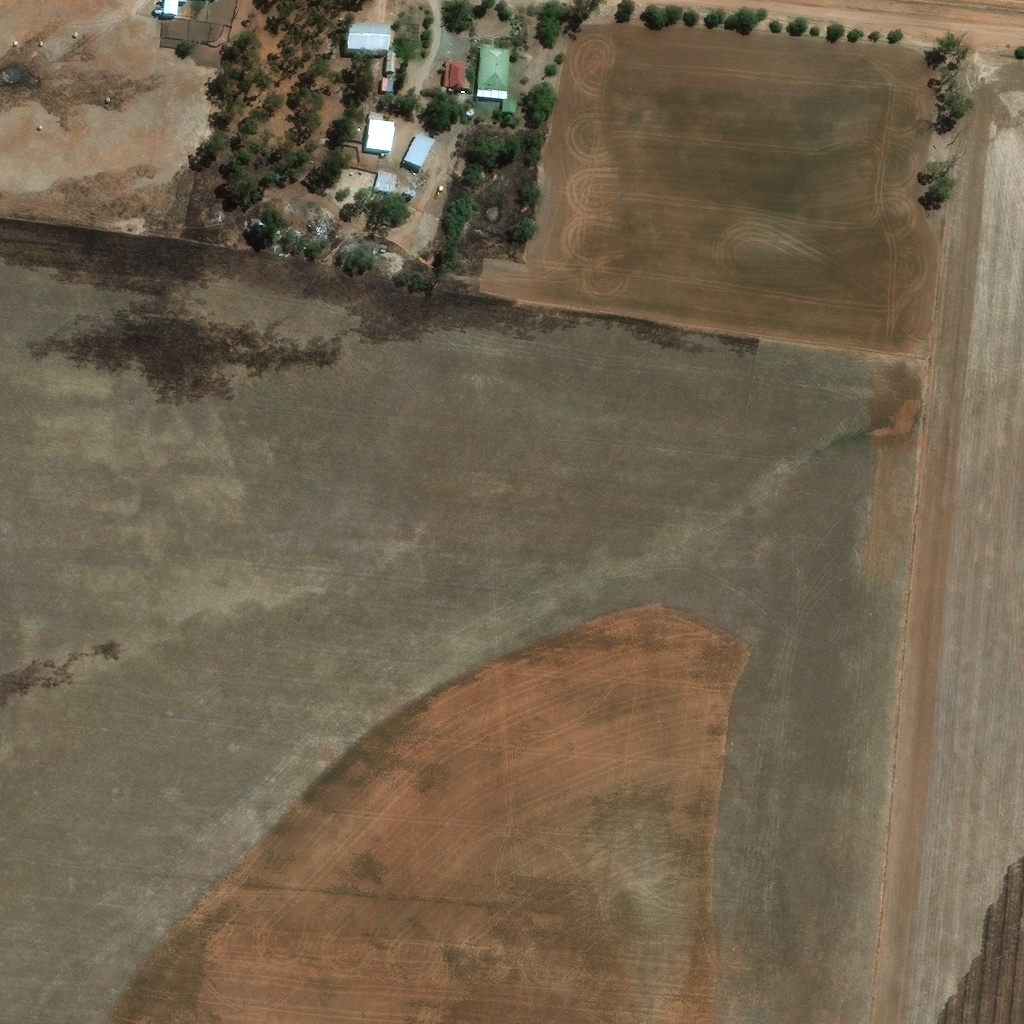0 no-damage: (477, 40, 511, 90), (346, 22, 390, 51), (402, 131, 435, 167), (366, 119, 395, 151), (442, 57, 470, 88), (374, 169, 398, 192), (476, 87, 507, 98), (501, 98, 517, 112), (386, 51, 395, 69), (369, 109, 383, 117), (386, 76, 394, 89), (467, 107, 474, 114), (409, 191, 415, 197), (403, 189, 409, 194)
4 un-classified: (142, 1, 158, 12)
